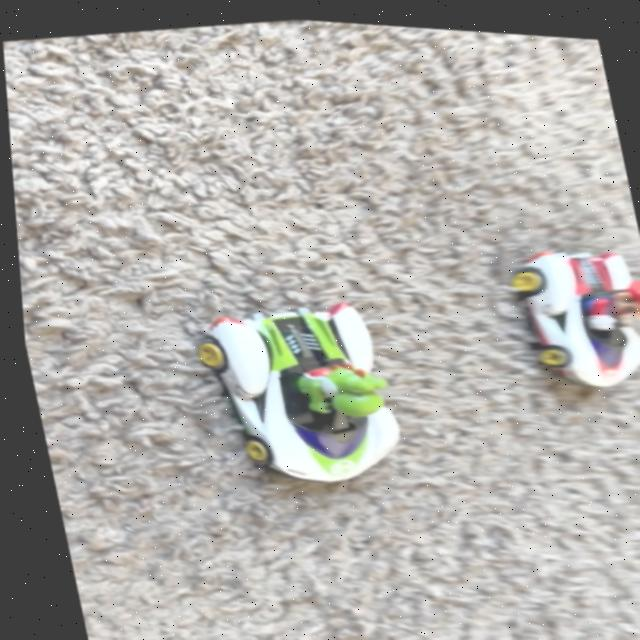mario: (496, 226, 640, 409)
yoshi: (176, 260, 420, 512)
